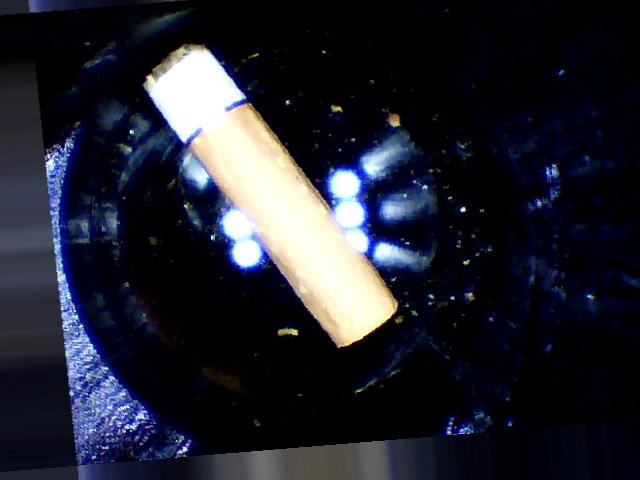megot: (135, 22, 407, 366)
